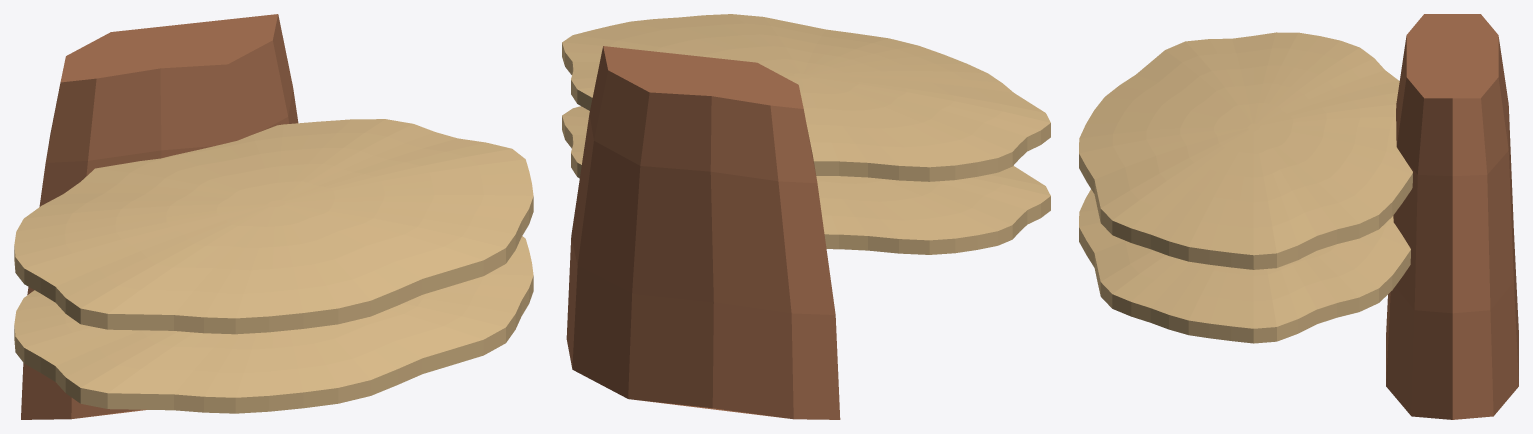
Rendered from cave-shield.glb.
The picture shows the model from 3 angles, left to right: view 1: azimuth 30°, elevation 25°; view 2: azimuth 150°, elevation 25°; view 3: azimuth 270°, elevation 25°; orthographic projection. The views are drawn at different scales.
Visible parts, largest first — view 1: Upper calcite shield plate, Lower calcite shield plate, Supporting cave wall attachment; view 2: Supporting cave wall attachment, Upper calcite shield plate, Lower calcite shield plate; view 3: Upper calcite shield plate, Supporting cave wall attachment, Lower calcite shield plate.
Part boxes in pixels (<box>): Upper calcite shield plate: <box>14,119,533,334</box>; Lower calcite shield plate: <box>14,236,533,413</box>; Supporting cave wall attachment: <box>21,14,298,419</box>; Supporting cave wall attachment: <box>566,46,840,419</box>; Upper calcite shield plate: <box>562,14,1050,181</box>; Lower calcite shield plate: <box>562,106,1050,254</box>; Upper calcite shield plate: <box>1079,32,1412,269</box>; Supporting cave wall attachment: <box>1386,14,1518,419</box>; Lower calcite shield plate: <box>1079,189,1410,343</box>.
Bounding box in the file's own units: 1 × 0.67 × 0.84.
